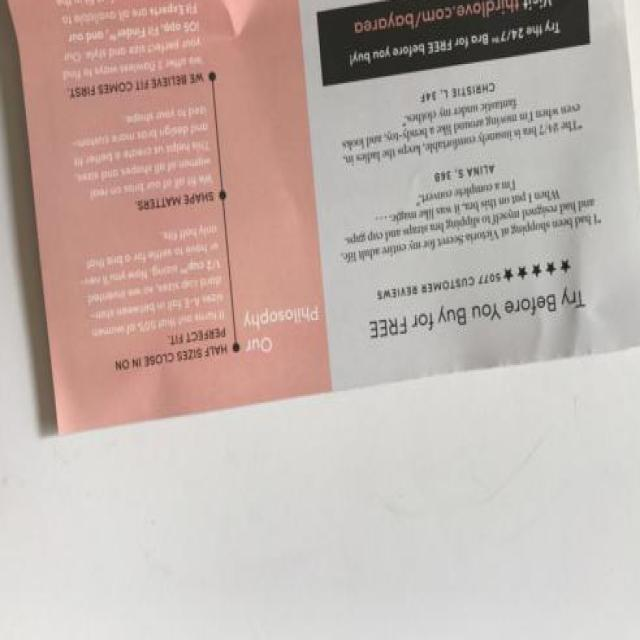kertas: (6, 0, 640, 439)
